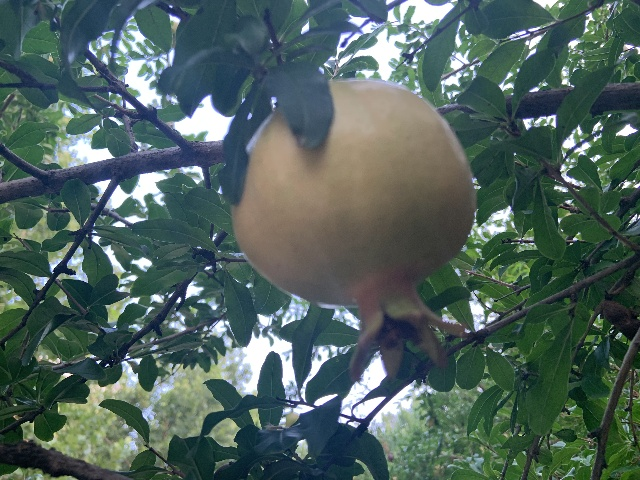mid-growth: (229, 80, 478, 387)
